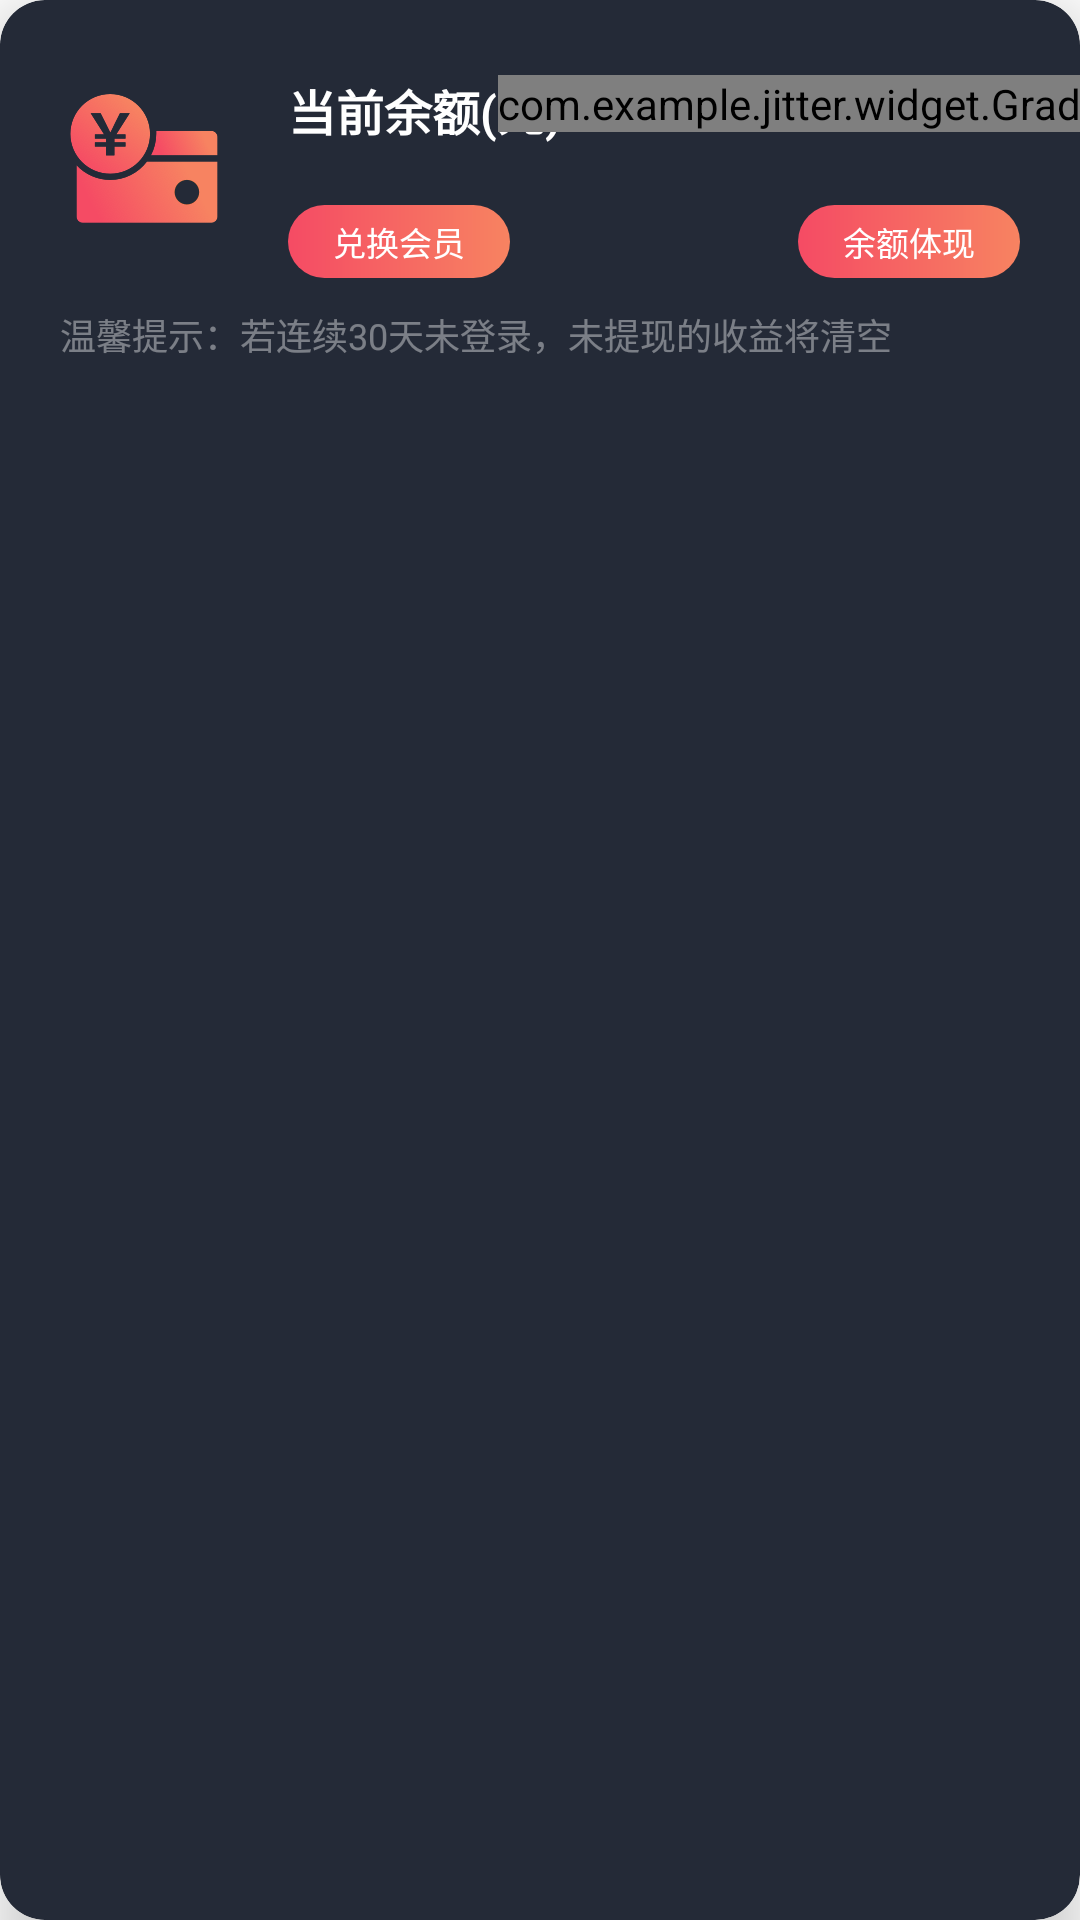

Where to tap for icons on this 1080w x 1920h app screen, as [x,y]:
balance: [144,158]
